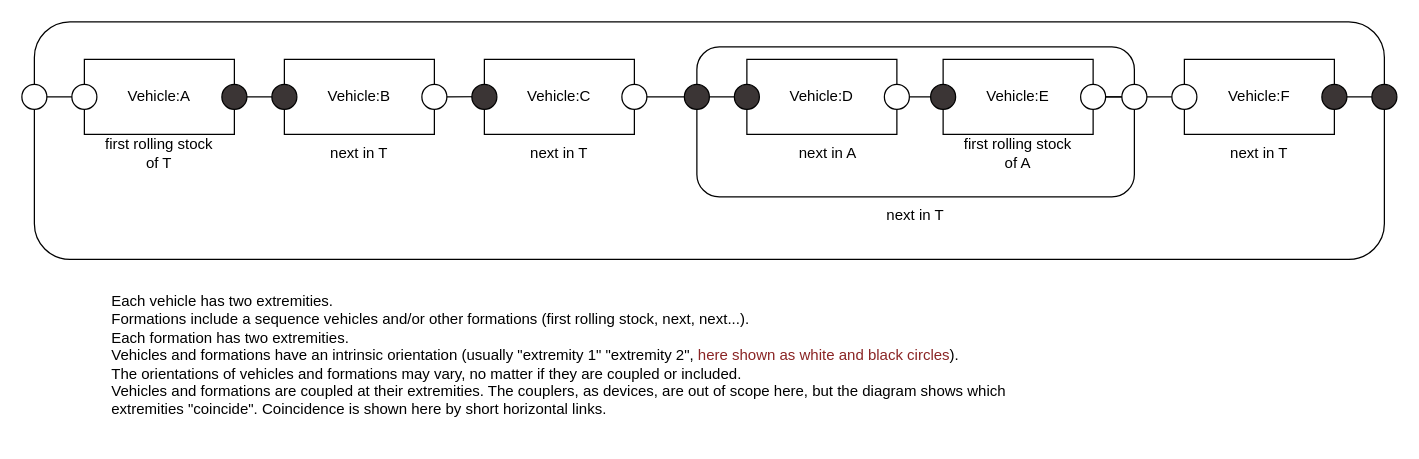
Some shapes in this 1419 by 459 pixel diagram are drawn without their labels. Here are the shapes that lost their labels. From the top down, the box of each, then its label:
(33, 21, 1384, 259): Formation:T
(696, 46, 1134, 197): Formation:X
